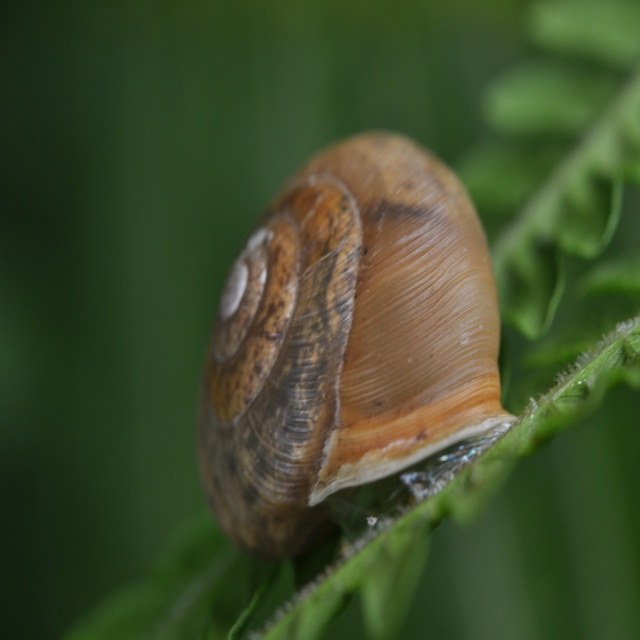Snail: (192, 122, 527, 587)
